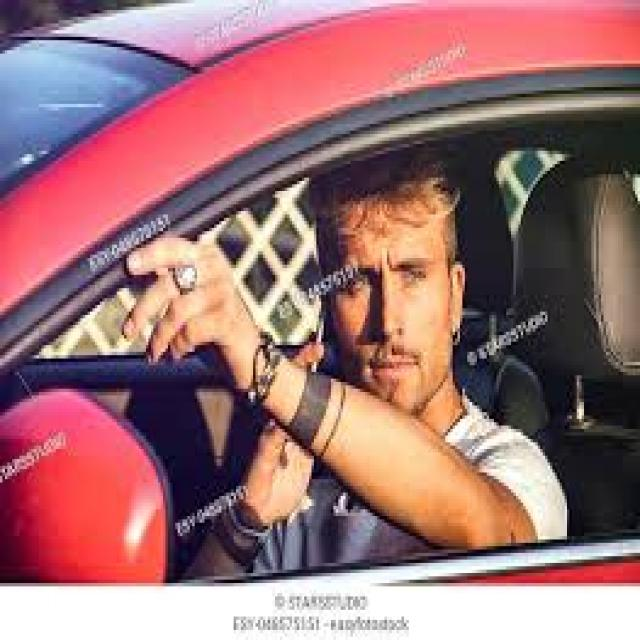Cellphone_calling: (260, 285, 362, 479)
